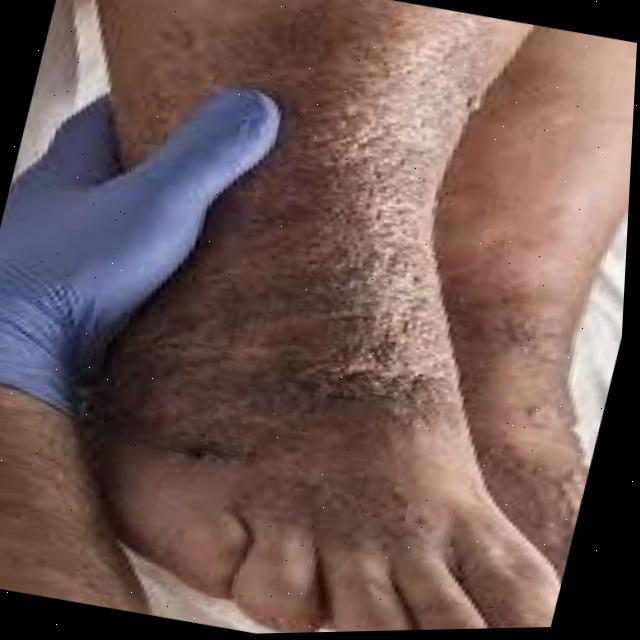Eczema: (90, 21, 638, 546)
